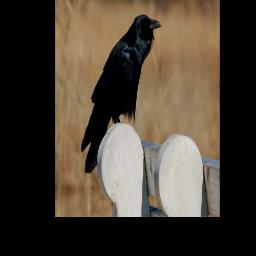Crow: (80, 14, 162, 175)
